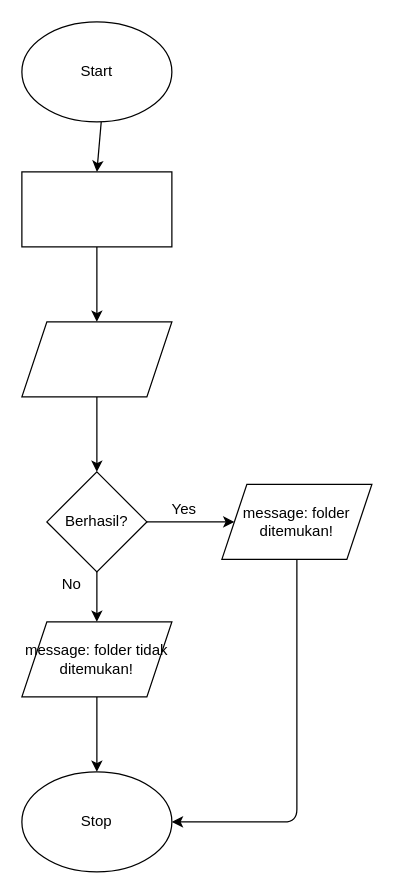
The diagram is 394 pixels wide and 894 high, and some of its shapes have lost their labels. The shapes that lost their labels are listed below. From the top down, each one's centre as x and y in pixels, then its label:
the point at 96,209: Cari folder path
the point at 96,359: Tampilkan path folder
